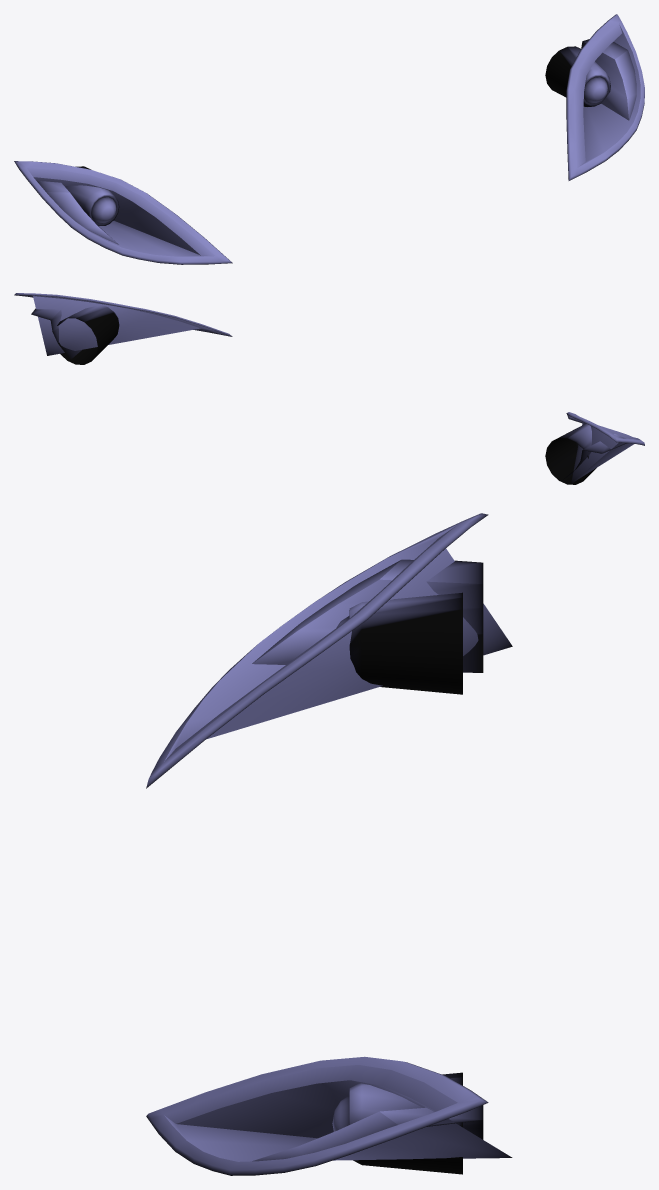
Rendered from Agera_HeadLight_Detail.fbx.
3 renders of one model, top to bottom at view 1: azimuth 30°, elevation 25°; view 2: azimuth 150°, elevation 25°; view 3: azimuth 270°, elevation 25°, orthographic. The views are drawn at different scales.
Parts seen in each view (by area): view 1: Agera_HeadLight_Detail; view 2: Agera_HeadLight_Detail; view 3: Agera_HeadLight_Detail.
Boxes of the visible parts, bbox=[...] form: Agera_HeadLight_Detail: bbox=[14, 14, 644, 264]; Agera_HeadLight_Detail: bbox=[14, 293, 644, 484]; Agera_HeadLight_Detail: bbox=[146, 513, 512, 1175].
Bounding box in the file's own units: 172 × 19.95 × 45.44.
